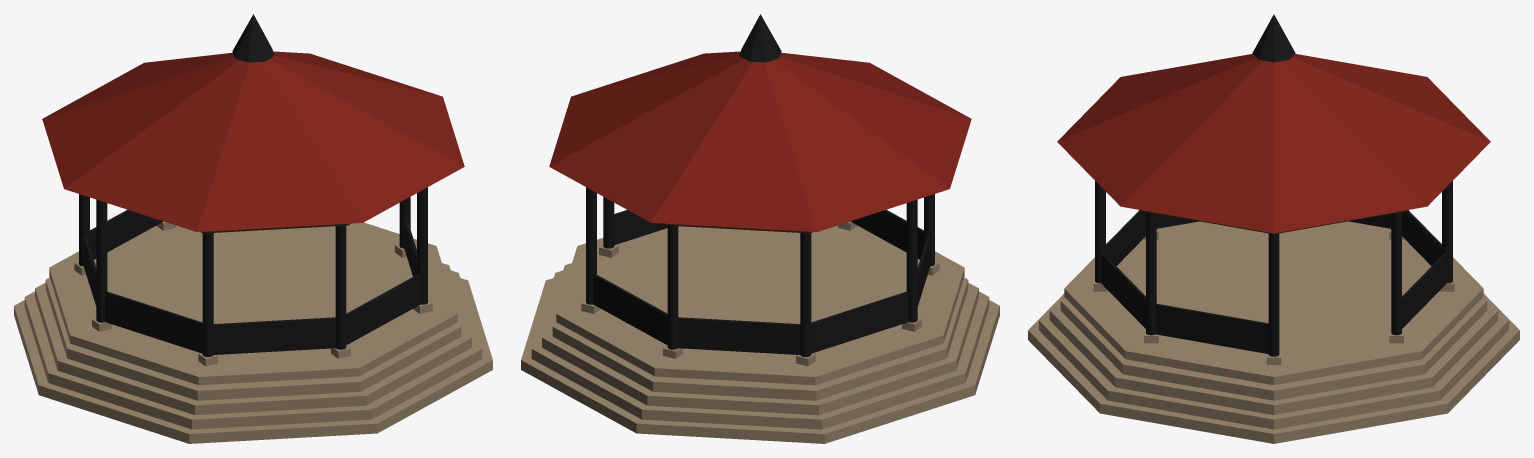
File: Kiosco.obj
The picture shows the model from 3 angles, left to right: view 1: azimuth 30°, elevation 25°; view 2: azimuth 150°, elevation 25°; view 3: azimuth 270°, elevation 25°; orthographic projection.
Visible parts, largest first — view 1: Kiosco_Techo_Conico, Kiosco_Base_Cornisa, Kiosco_Escalon_1, Kiosco_Escalon_2, Kiosco_Escalon_3, Kiosco_Escalon_4, Kiosco_Barrandal_6, Kiosco_Barrandal_5, Kiosco_Barrandal_7, Kiosco_Columna_6, Kiosco_Barrandal_3, Kiosco_Columna_7 (+6 smaller); view 2: Kiosco_Techo_Conico, Kiosco_Base_Cornisa, Kiosco_Escalon_1, Kiosco_Escalon_2, Kiosco_Escalon_3, Kiosco_Escalon_4, Kiosco_Barrandal_3, Kiosco_Barrandal_4, Kiosco_Barrandal_2, Kiosco_Columna_4, Kiosco_Barrandal_6, Kiosco_Columna_3 (+7 smaller); view 3: Kiosco_Techo_Conico, Kiosco_Base_Cornisa, Kiosco_Escalon_1, Kiosco_Escalon_2, Kiosco_Escalon_3, Kiosco_Escalon_4, Kiosco_Barrandal_8, Kiosco_Barrandal_2, Kiosco_Barrandal_7, Kiosco_Columna_1, Kiosco_Columna_2, Kiosco_Columna_8 (+5 smaller).
Part boxes in pixels (x1,y1,x2,y2): Kiosco_Techo_Conico: (42, 51, 464, 231); Kiosco_Base_Cornisa: (49, 222, 457, 385); Kiosco_Escalon_1: (14, 278, 492, 443); Kiosco_Escalon_2: (24, 270, 482, 429); Kiosco_Escalon_3: (35, 263, 471, 415); Kiosco_Escalon_4: (45, 277, 461, 400); Kiosco_Barrandal_6: (213, 317, 335, 354); Kiosco_Barrandal_5: (105, 291, 202, 353); Kiosco_Barrandal_7: (346, 274, 420, 344); Kiosco_Columna_6: (202, 233, 213, 356); Kiosco_Barrandal_3: (90, 209, 163, 259); Kiosco_Columna_7: (335, 225, 346, 349); Kiosco_Techo_Conico: (549, 51, 971, 231); Kiosco_Base_Cornisa: (556, 225, 964, 385); Kiosco_Escalon_1: (521, 278, 999, 443); Kiosco_Escalon_2: (531, 270, 989, 429); Kiosco_Escalon_3: (542, 263, 978, 415); Kiosco_Escalon_4: (552, 277, 968, 400); Kiosco_Barrandal_3: (678, 317, 800, 354); Kiosco_Barrandal_4: (811, 291, 908, 353); Kiosco_Barrandal_2: (593, 274, 667, 344); Kiosco_Columna_4: (800, 233, 811, 356); Kiosco_Barrandal_6: (850, 209, 923, 259); Kiosco_Columna_3: (667, 225, 678, 349); Kiosco_Techo_Conico: (1057, 54, 1490, 233); Kiosco_Base_Cornisa: (1064, 221, 1483, 385); Kiosco_Escalon_1: (1028, 293, 1519, 443); Kiosco_Escalon_2: (1039, 295, 1508, 429); Kiosco_Escalon_3: (1049, 296, 1498, 414); Kiosco_Escalon_4: (1060, 297, 1487, 400); Kiosco_Barrandal_8: (1155, 304, 1268, 353); Kiosco_Barrandal_2: (1402, 253, 1446, 328); Kiosco_Barrandal_7: (1101, 253, 1145, 328); Kiosco_Columna_1: (1268, 233, 1279, 356); Kiosco_Columna_2: (1391, 212, 1401, 335); Kiosco_Columna_8: (1146, 212, 1156, 335).
Bounding box in the file's own units: 13.6 × 10 × 13.6.
